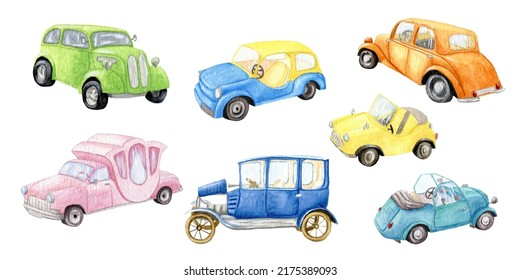car: (21, 130, 184, 227), (184, 151, 339, 245), (355, 16, 506, 103), (31, 22, 170, 108), (193, 39, 329, 123), (374, 172, 501, 245), (329, 92, 439, 167)
